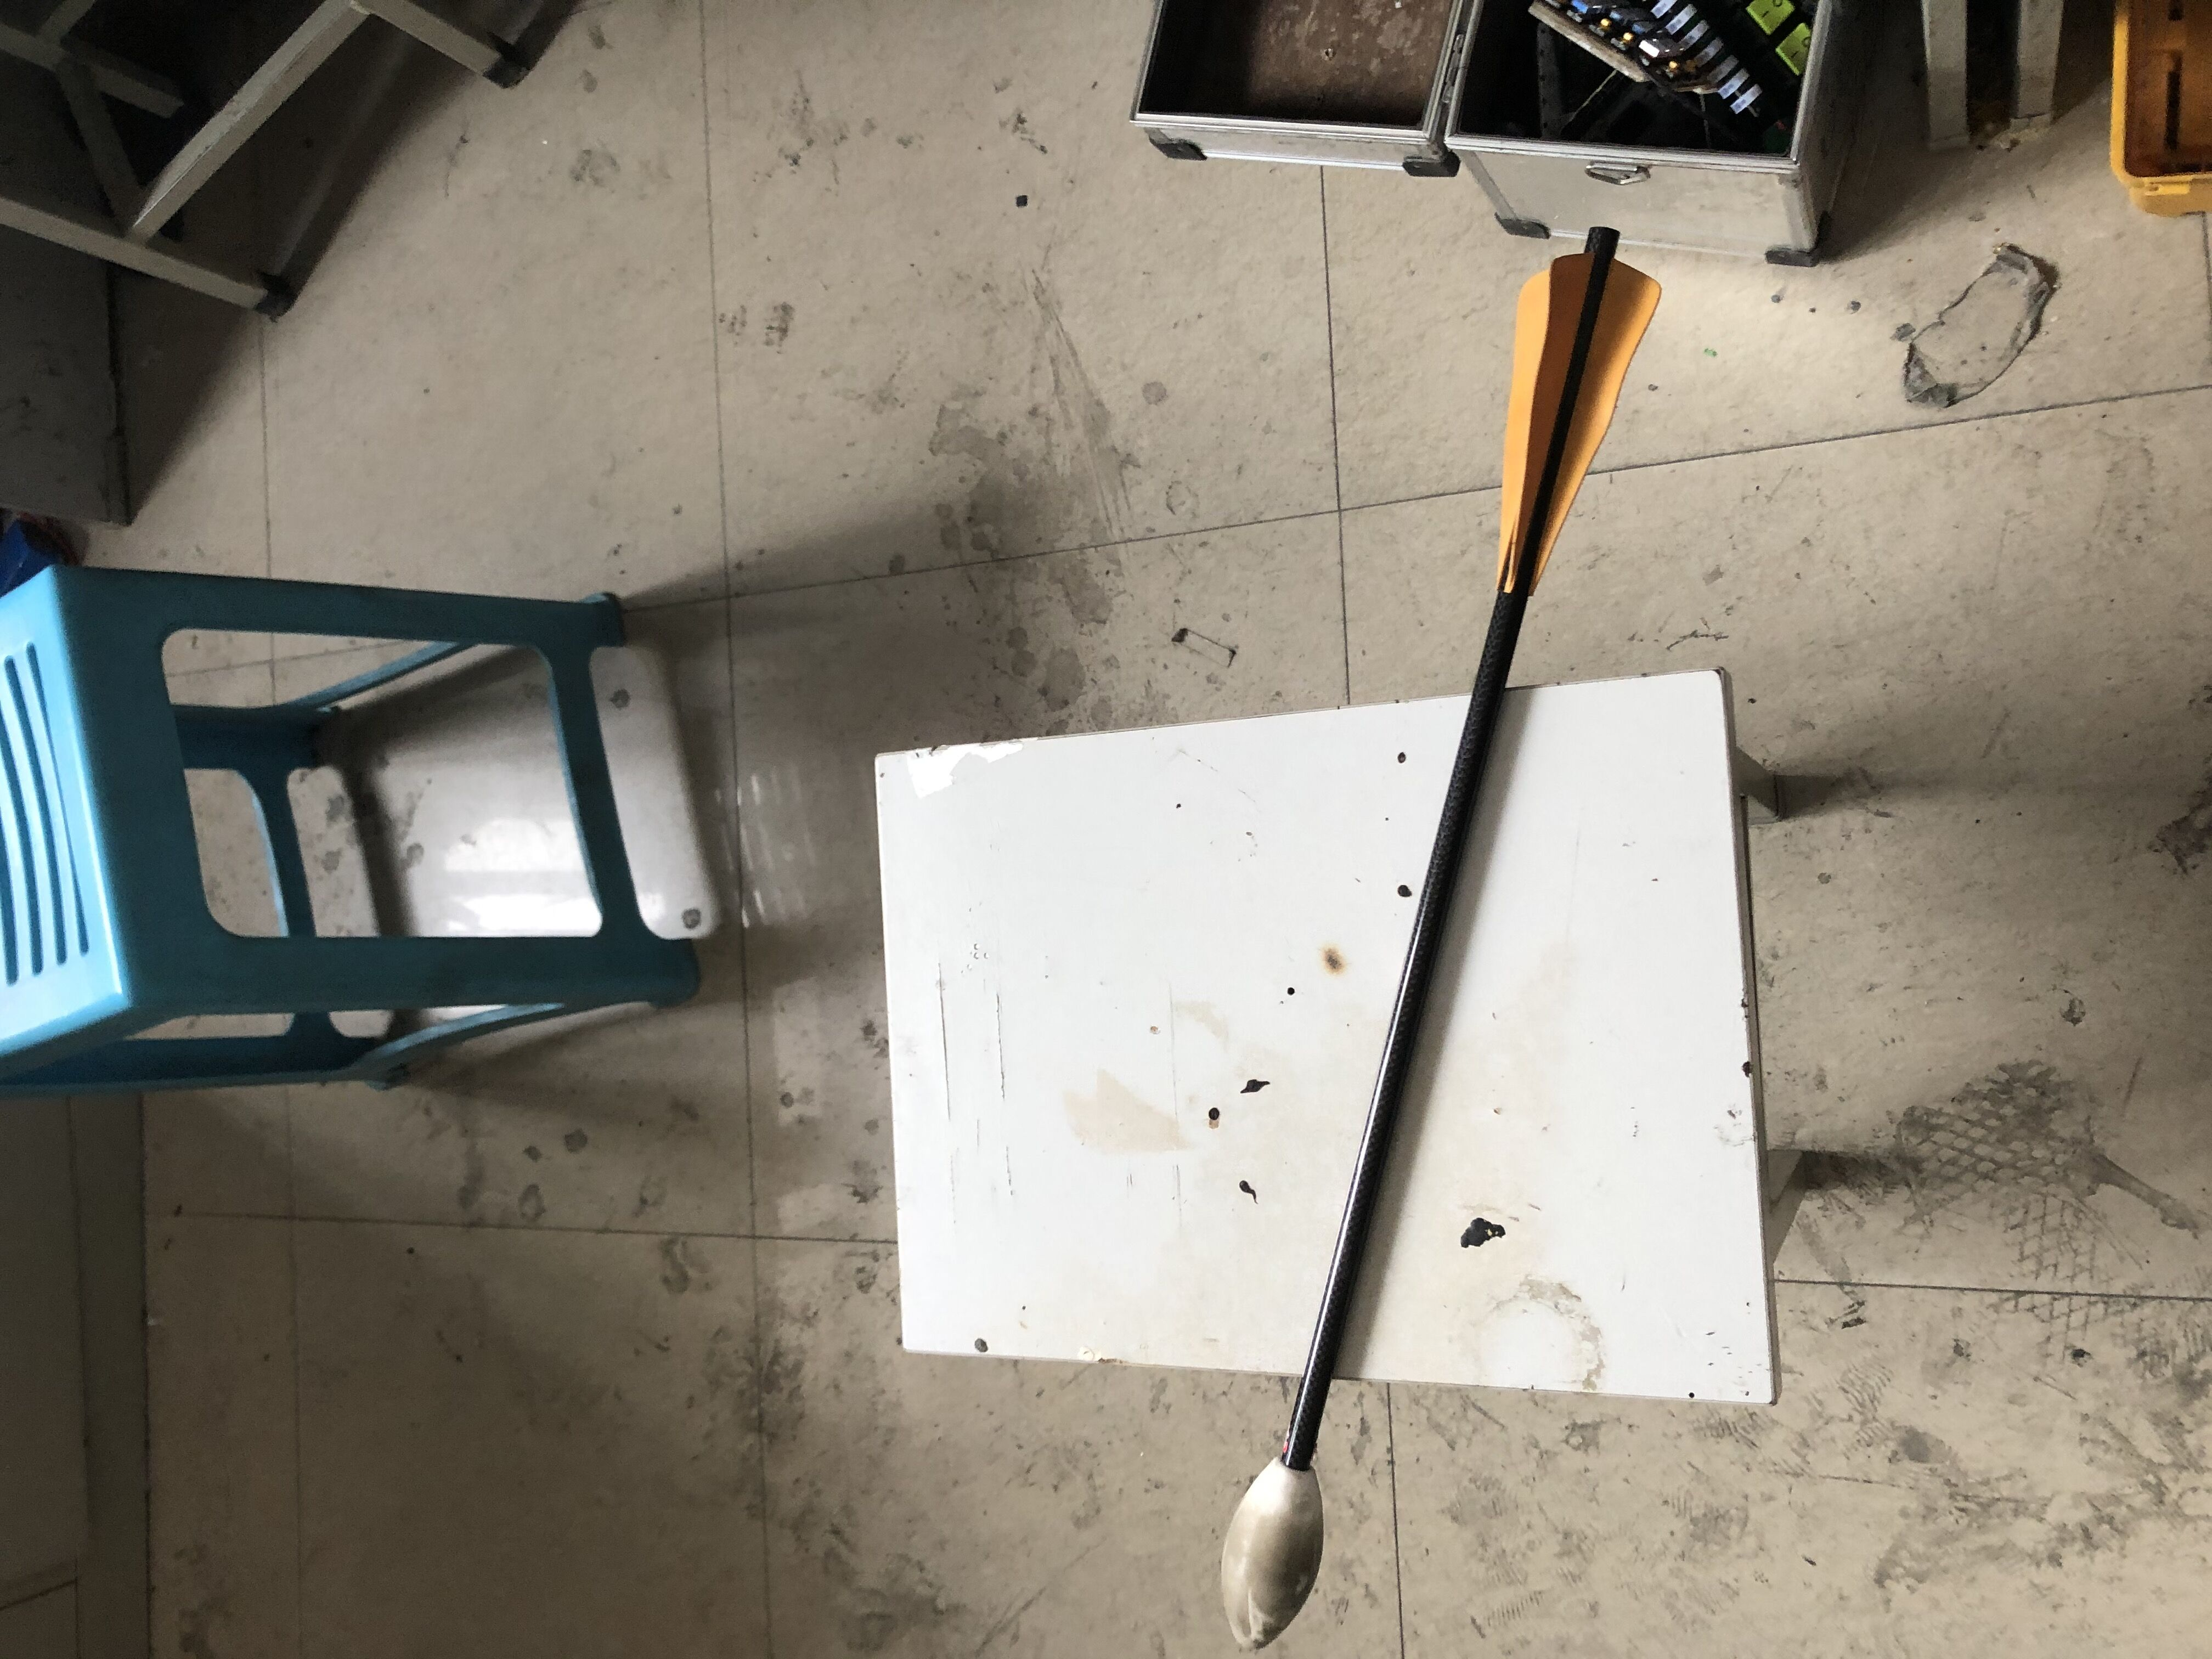arrow: (1216, 228, 1663, 1647)
arrowFront: (1217, 1455, 1329, 1643)
